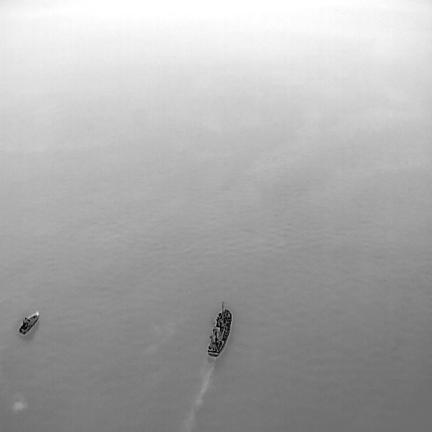flukeprints: (13, 397, 26, 412)
